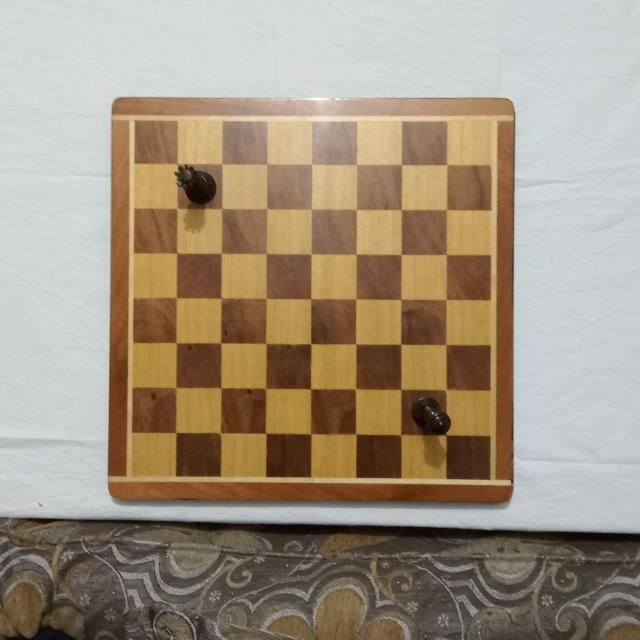black-king: (412, 396, 452, 435)
black-queen: (173, 161, 217, 205)
